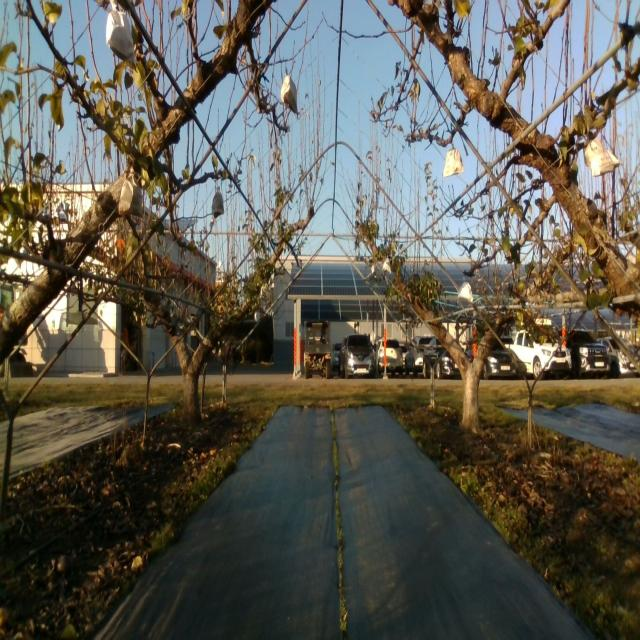pearbags: (105, 4, 136, 68), (583, 139, 622, 178), (118, 167, 142, 216), (281, 71, 298, 115), (442, 142, 464, 176), (457, 277, 473, 305), (211, 186, 224, 220)
